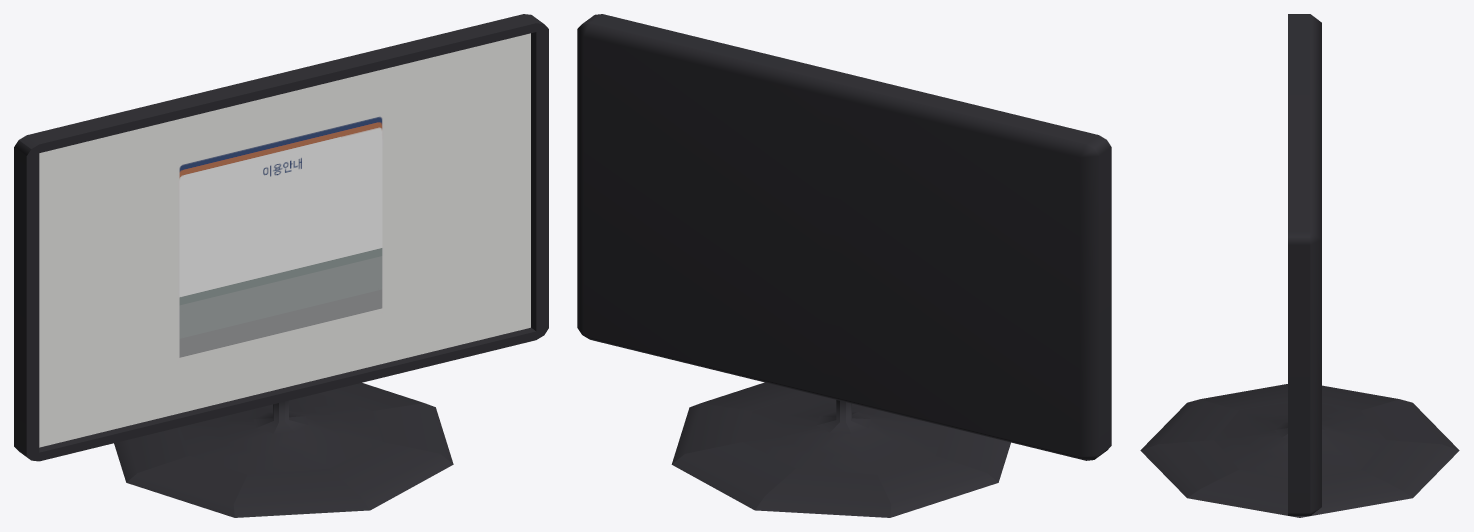
Rendered from multimedia_monitor_small.fbx.
3 views of the same model, side by side, from view 1: azimuth 30°, elevation 25°; view 2: azimuth 150°, elevation 25°; view 3: azimuth 270°, elevation 25° (orthographic). The views are drawn at different scales.
Visible parts, largest first — view 1: multimedia_monitor_small; view 2: multimedia_monitor_small; view 3: multimedia_monitor_small.
Boxes of the visible parts, box(x1,y1,x2,y2) form: multimedia_monitor_small: box(14, 14, 548, 517); multimedia_monitor_small: box(577, 14, 1111, 517); multimedia_monitor_small: box(1140, 14, 1459, 517).
Bounding box in the file's own units: 0.00447 × 0.00299 × 0.00265.
1 material, 1 textured.
